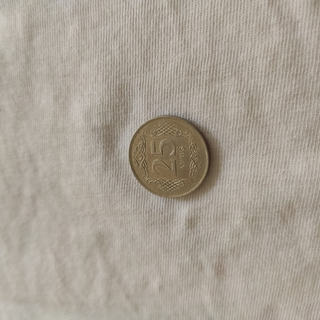25KURUS: (127, 115, 211, 199)
